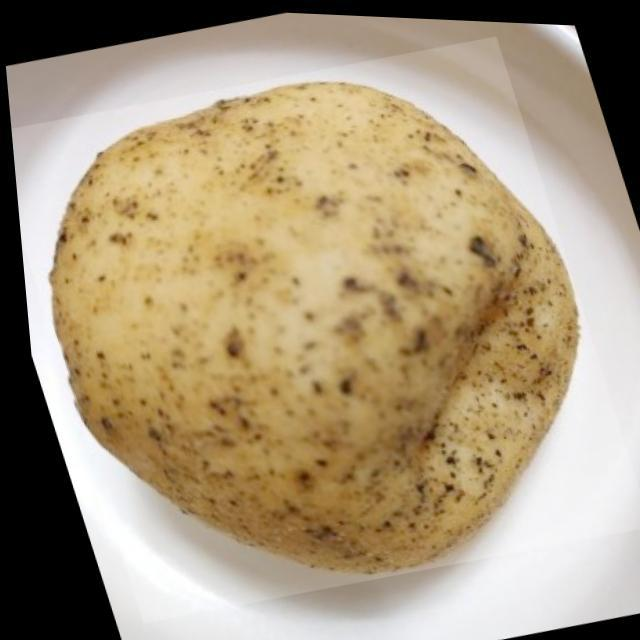Potato: (1, 13, 640, 639)
